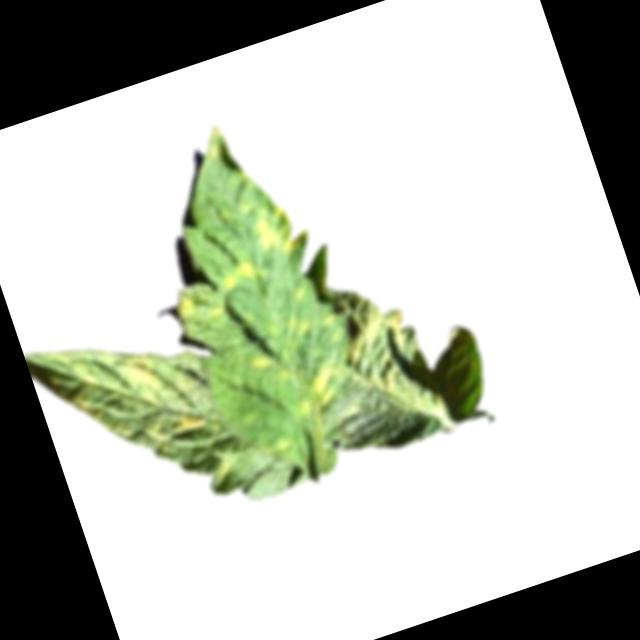Leaf_Mold: (27, 302, 239, 529), (335, 301, 426, 403), (169, 257, 268, 336), (238, 193, 307, 264), (280, 360, 341, 422), (244, 349, 271, 374)
